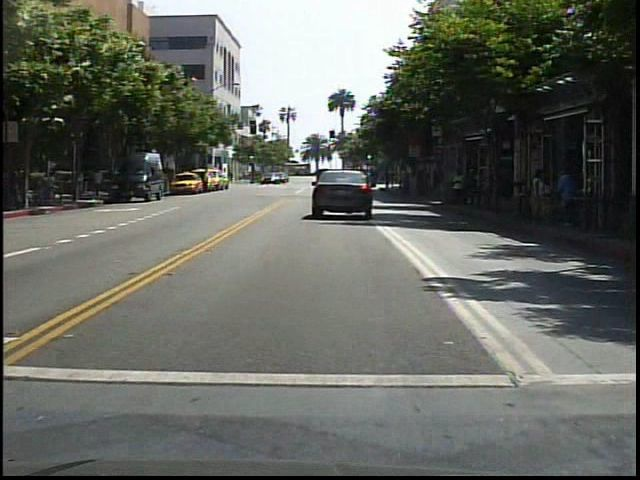person: (448, 167, 470, 212)
